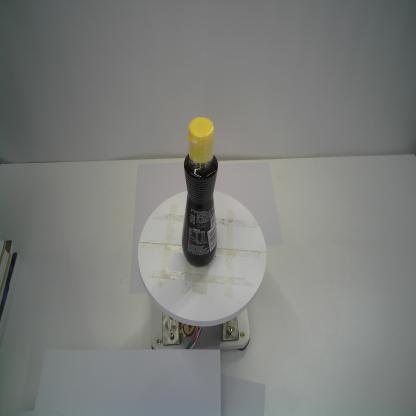Seasoner: (180, 115, 219, 268)
